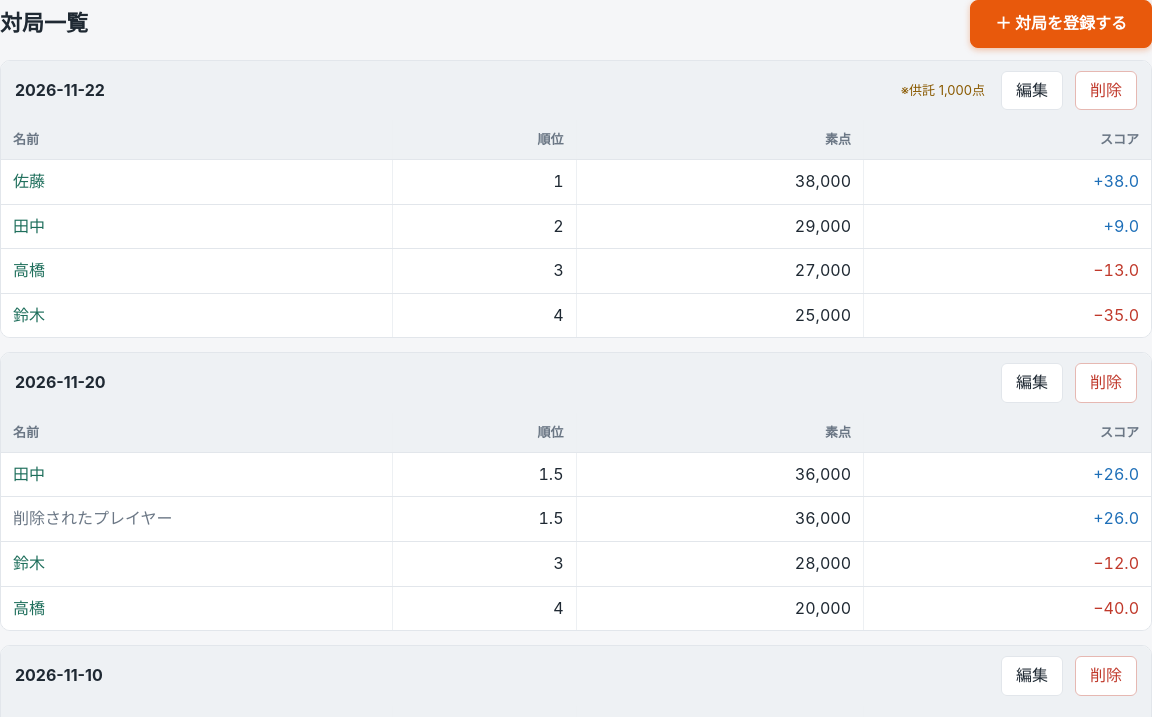
Test: 削除 › 「削除」を押すと、その対局の日付を入れた確認ダイアログが出る。まだ削除はしない
The width and height of the screenshot is (1152, 717).
Expected: the text "2026-11-22" is shown, left=15, top=78, right=105, bottom=103
What coordinates should you click on to do the following:
click the button "削除" in the row of "2026-11-20"
I would click on:
 (1106, 383)
Its box is left=1075, top=363, right=1137, bottom=403.
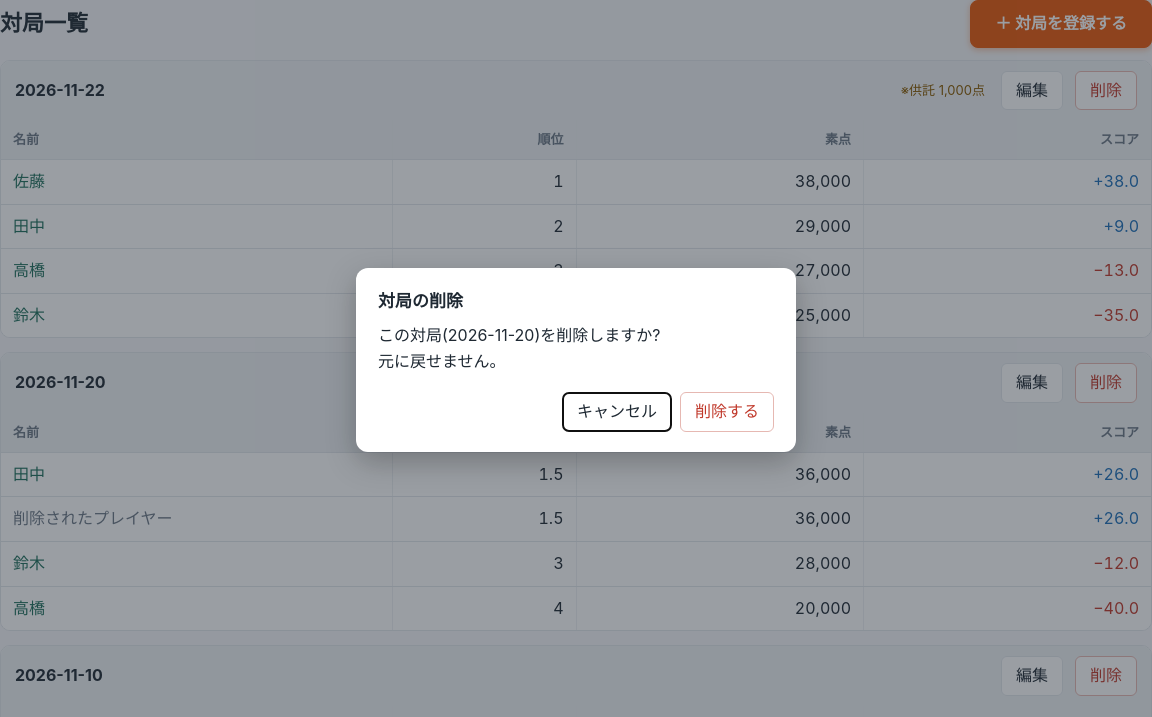
Expected: the dialog shows "この対局(2026-11-20)を削除しますか?", left=378, top=325, right=660, bottom=371
Expected: the dialog shows "元に戻せません", left=378, top=325, right=660, bottom=371
